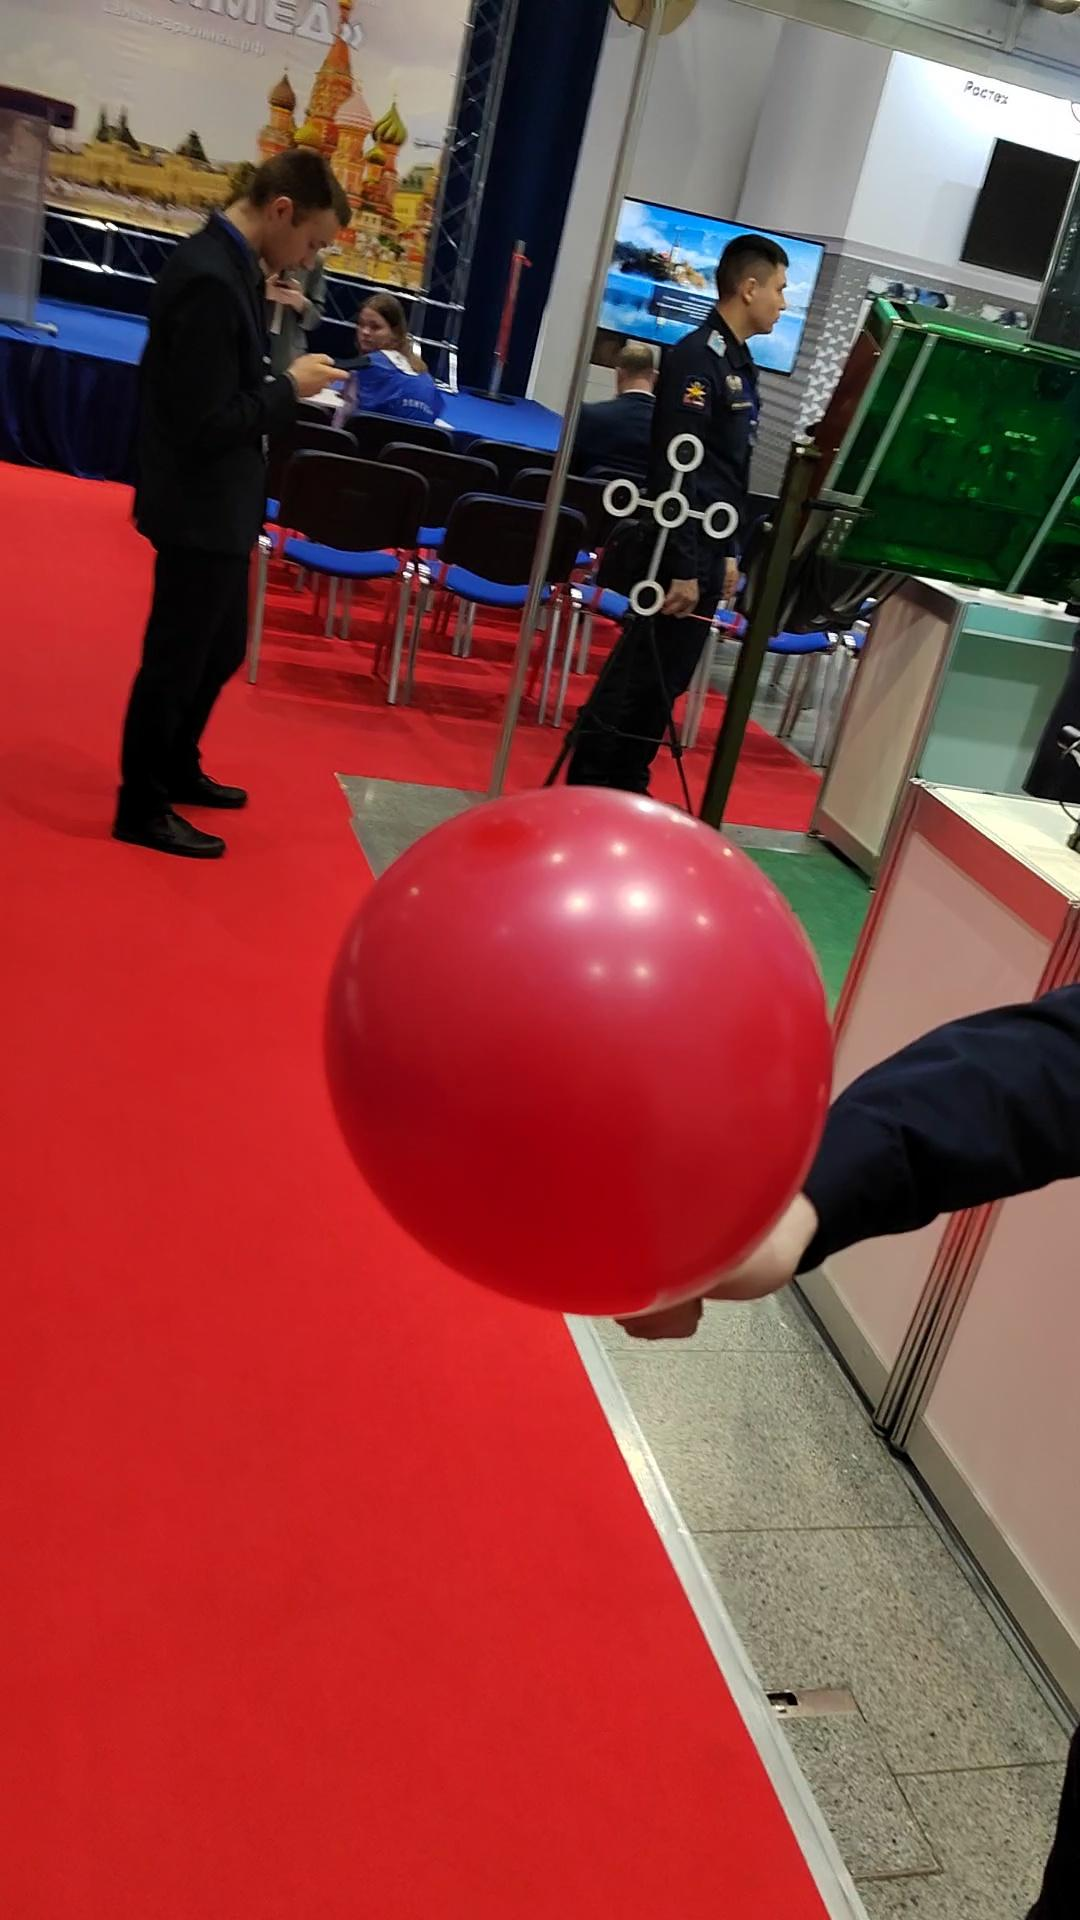red: (305, 764, 844, 1324)
